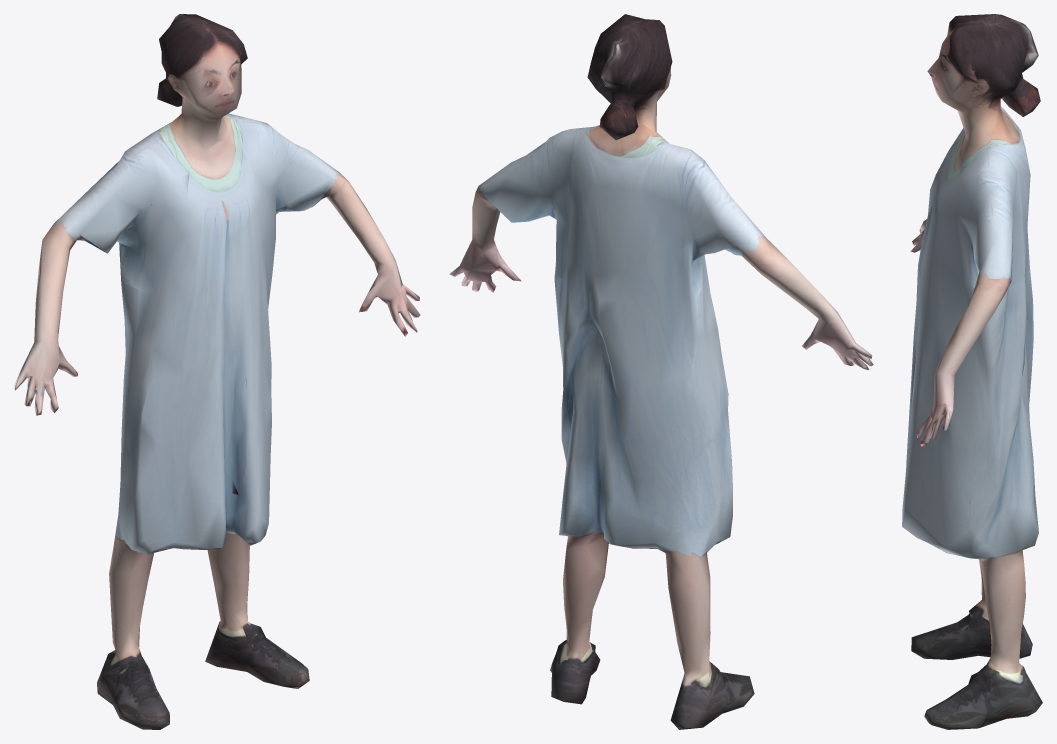
File: ddc_graph.obj
3 renders of one model, left to right at view 1: azimuth 30°, elevation 25°; view 2: azimuth 150°, elevation 25°; view 3: azimuth 270°, elevation 25°, orthographic.
Size of the model in its own units: 1044 by 1613 by 307.
Materials: 1 (1 with a texture image).
